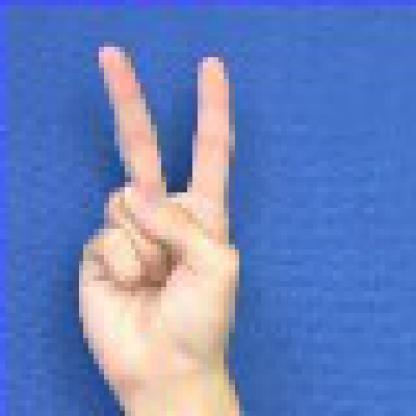two: (56, 33, 256, 396)
